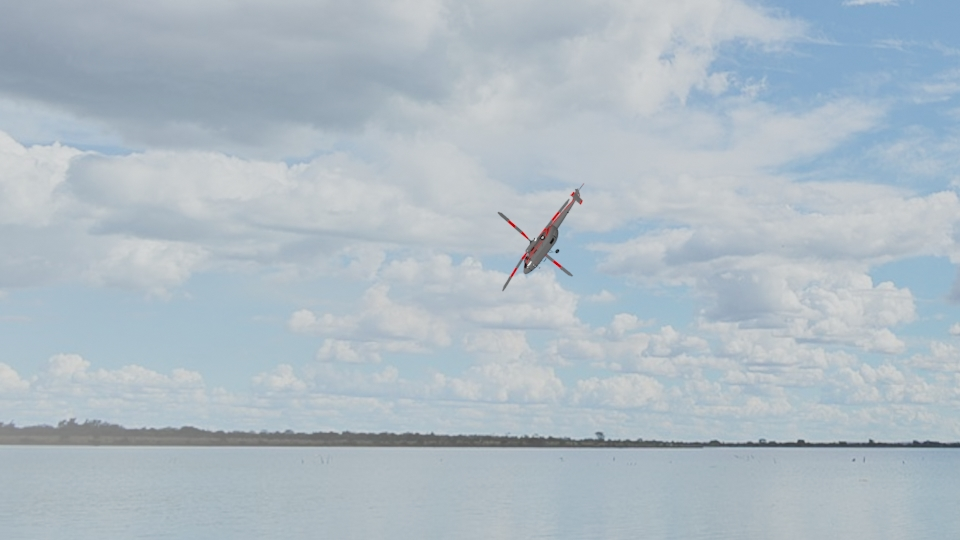heli: (498, 180, 584, 292)
